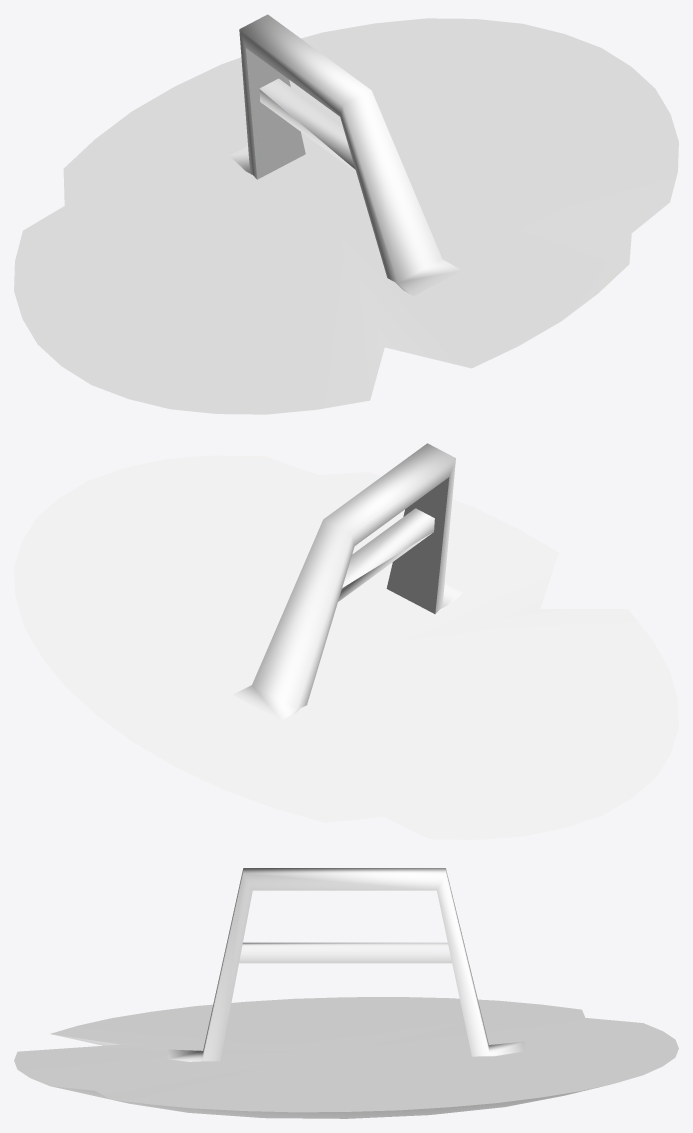
3 views of the same model, one above another, from view 1: azimuth 30°, elevation 25°; view 2: azimuth 150°, elevation 25°; view 3: azimuth 270°, elevation 25° (orthographic). The views are drawn at different scales.
Visible parts, largest first — view 1: mesh_0; view 2: mesh_0; view 3: mesh_0.
Part boxes in pixels (<box>): mesh_0: <box>14,14,678,414</box>; mesh_0: <box>14,443,678,839</box>; mesh_0: <box>14,868,678,1118</box>.
Bounding box in the file's own units: 13.67 × 5.8 × 14.16.
1 material, 1 textured.
